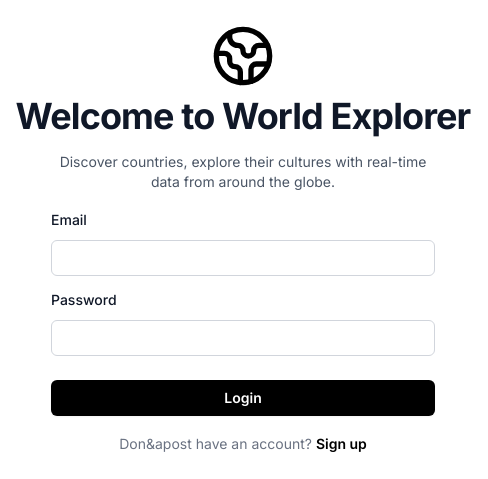
Login Page › shows an error message when fields are empty
Click the button "Login" at (243, 398), box [51,380,435,416]
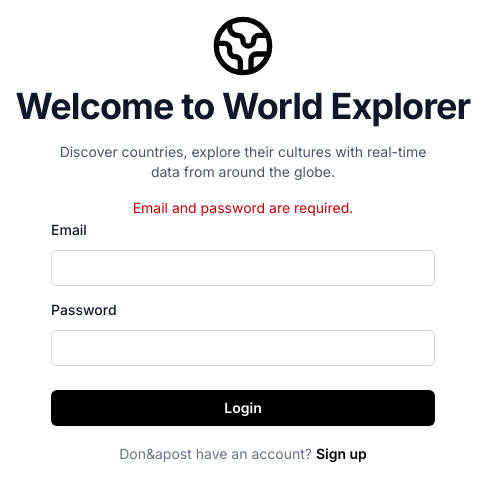
Expected: the text "Email and password are required." is shown, [133,199,353,216]
